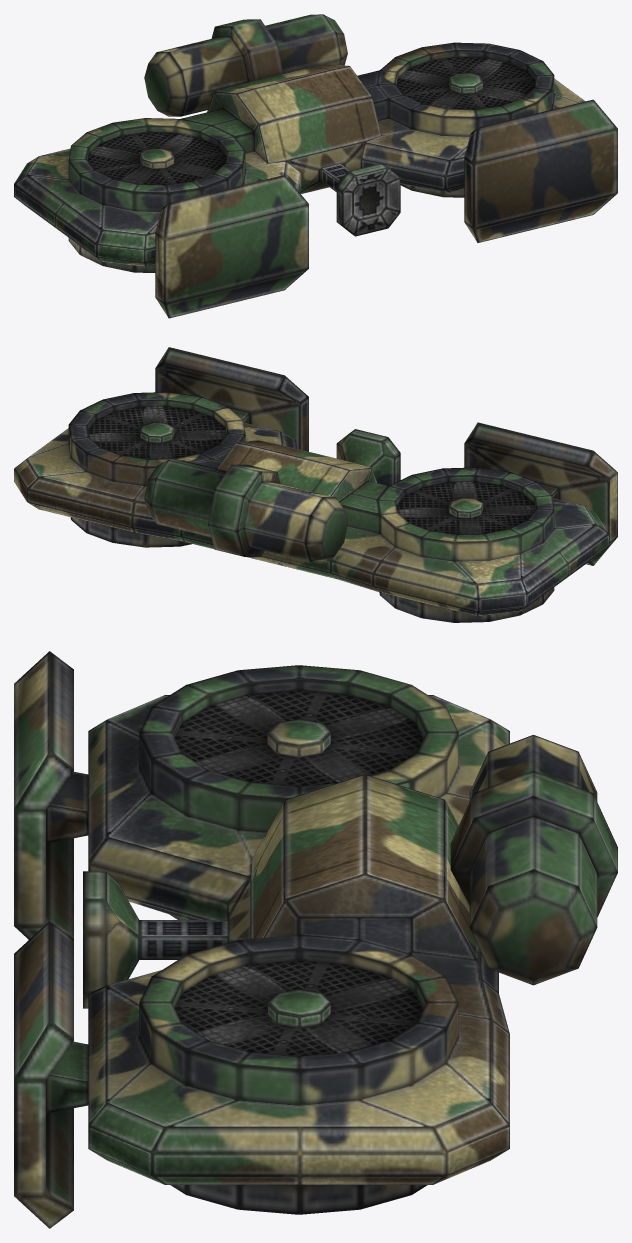
Rendered from RadialTank.fbx.
3 views of the same model, one above another, from view 1: azimuth 30°, elevation 25°; view 2: azimuth 150°, elevation 25°; view 3: azimuth 270°, elevation 25° (orthographic). The views are drawn at different scales.
Parts seen in each view (by area): view 1: Mesh; view 2: Mesh; view 3: Mesh.
Part boxes in pixels (x1,y1,x2,y2): Mesh: [14, 14, 617, 318]; Mesh: [14, 347, 617, 622]; Mesh: [14, 651, 617, 1228].
Size of the model in its own units: 3.32 by 0.8977 by 1.89.
1 material, 1 textured.
